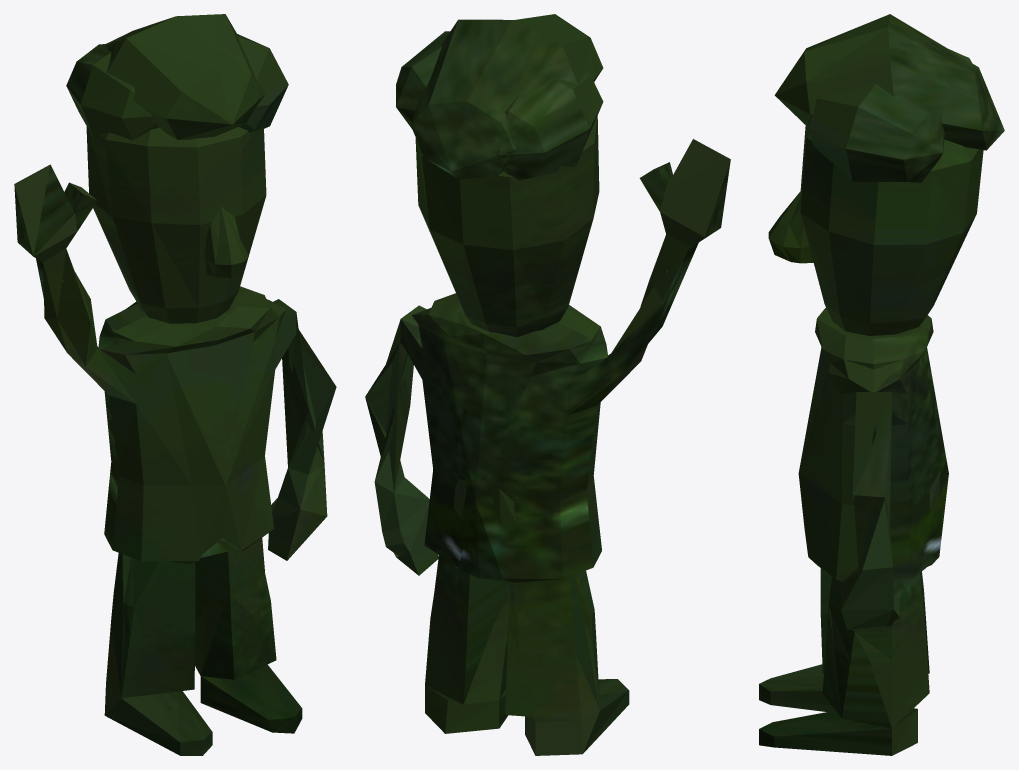
The model's file is YachGras.glb.
3 renders of one model, left to right at view 1: azimuth 30°, elevation 25°; view 2: azimuth 150°, elevation 25°; view 3: azimuth 270°, elevation 25°, orthographic. The views are drawn at different scales.
Visible parts, largest first — view 1: YachGras; view 2: YachGras; view 3: YachGras.
Boxes of the visible parts, box(x1,y1,x2,y2) form: YachGras: box(14, 14, 336, 755); YachGras: box(365, 14, 730, 755); YachGras: box(759, 14, 1004, 755).
Size of the model in its own units: 112 by 223 by 71.48.
1 material, 1 textured.
